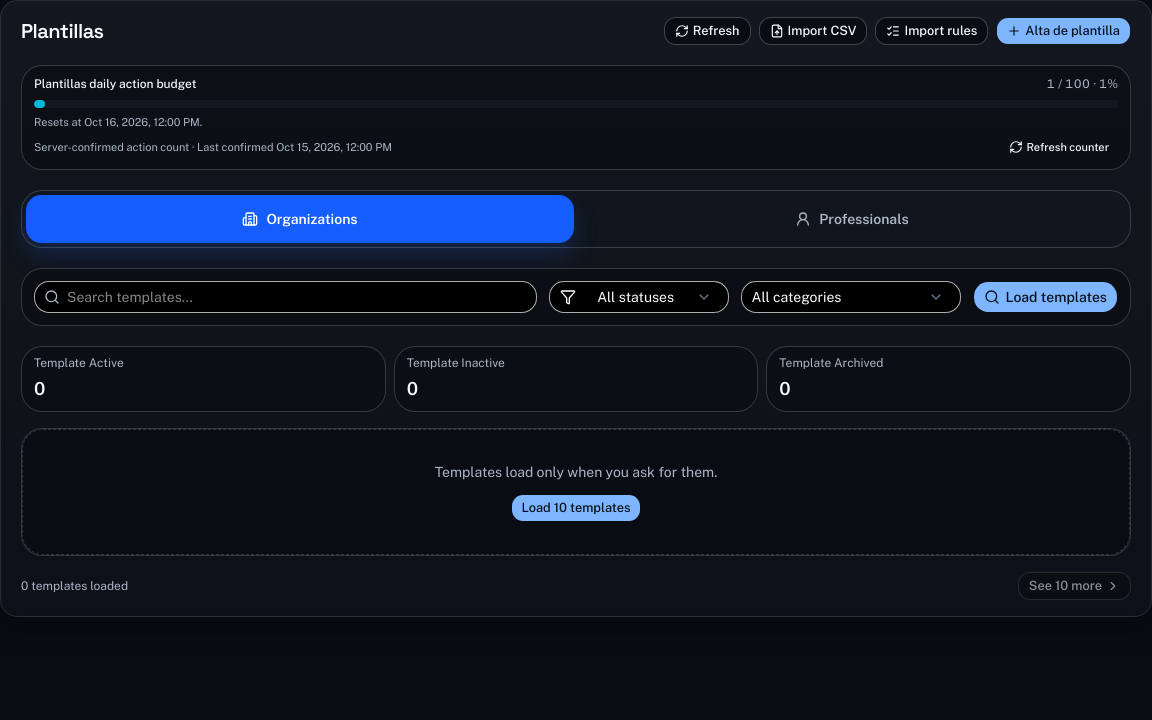
Test: PartnershipCrmTemplateBrowser › fails closed after an action response returns malformed usage
The width and height of the screenshot is (1152, 720).
Click the button "Load 10 templates": (576, 508) top-left (510, 494), bottom-right (642, 522)
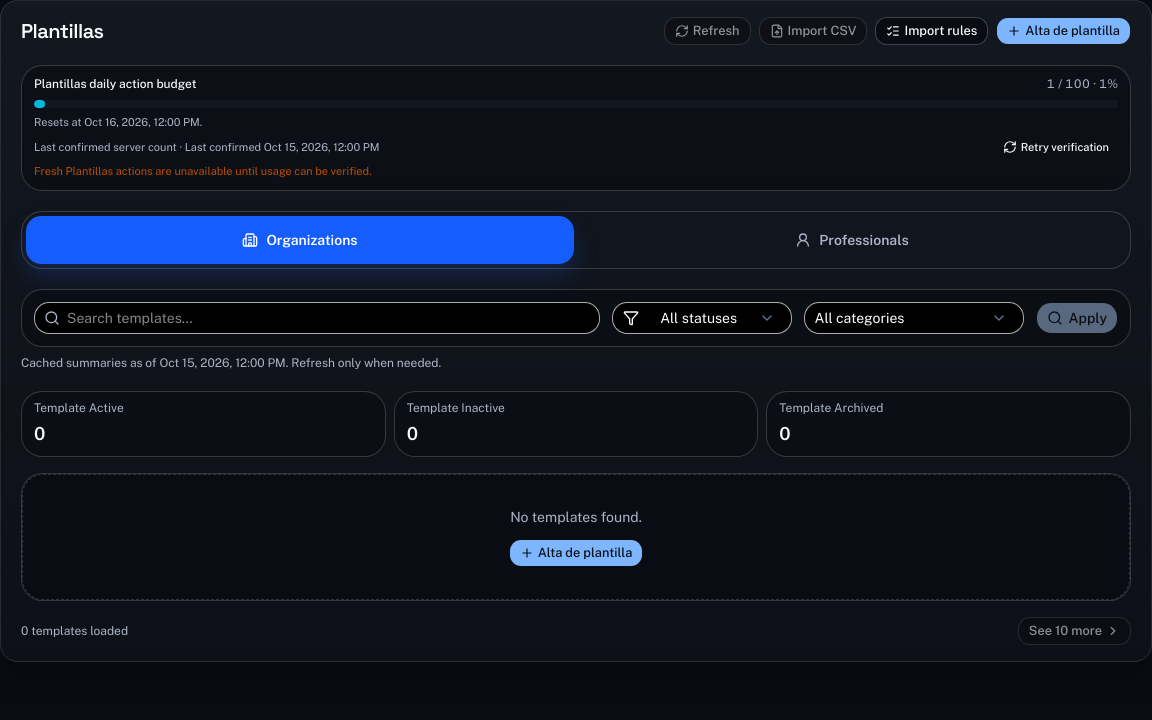
Expected: the button "Retry verification" is shown, top-left (994, 135), bottom-right (1118, 159)
Expected: the button "Refresh" is disabled, top-left (664, 17), bottom-right (751, 45)
